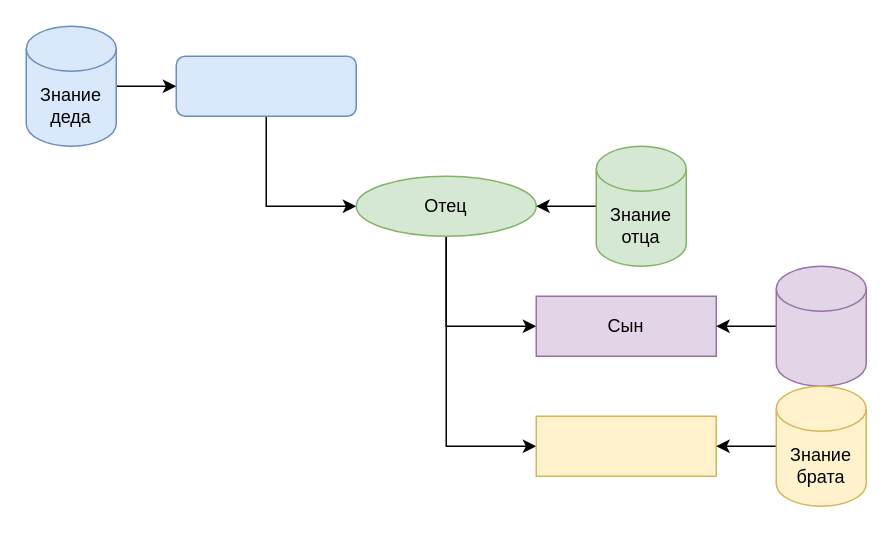
This 893x533 diagram has some shape labels left out. The centre of each missing label's shape, as x and y in pixels:
Брат: pixel 625 445
Дед: pixel 265 85
Знание сына: pixel 820 325
